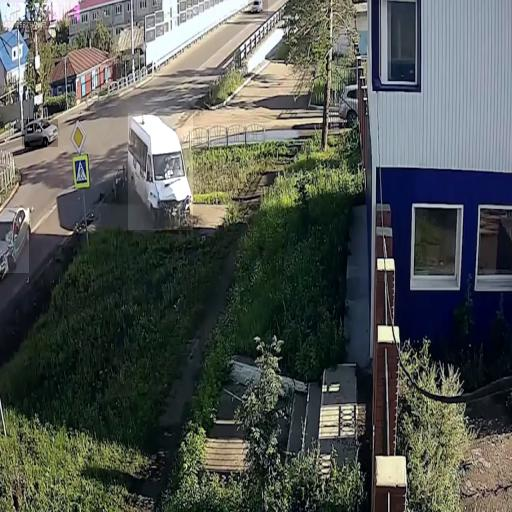小汽车: (0, 208, 29, 273), (22, 119, 58, 147), (248, 0, 268, 15)
小汽车撞物: (128, 113, 193, 230)
